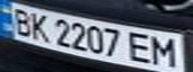0: (84, 24, 106, 56)
2: (48, 16, 72, 48), (66, 19, 87, 53)
7: (103, 26, 127, 59)
B: (6, 6, 36, 37)
E: (124, 29, 157, 64)
K: (24, 11, 54, 43)
M: (148, 34, 184, 69)
